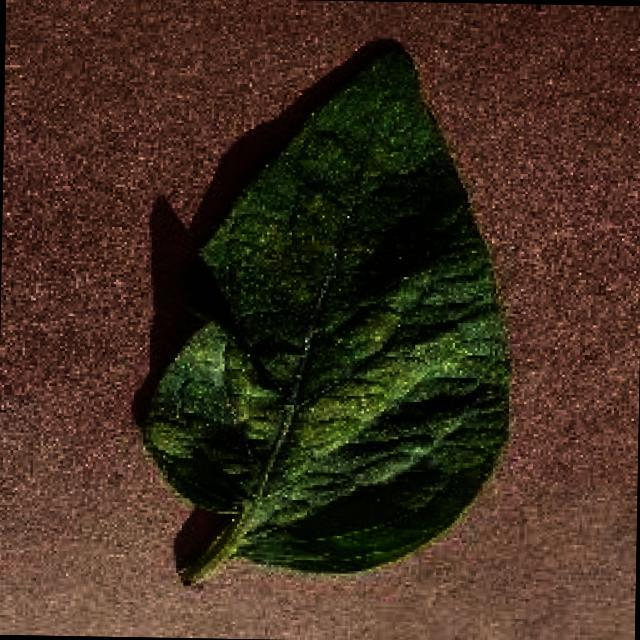Tomato spider mites leaf: (145, 31, 514, 576)
